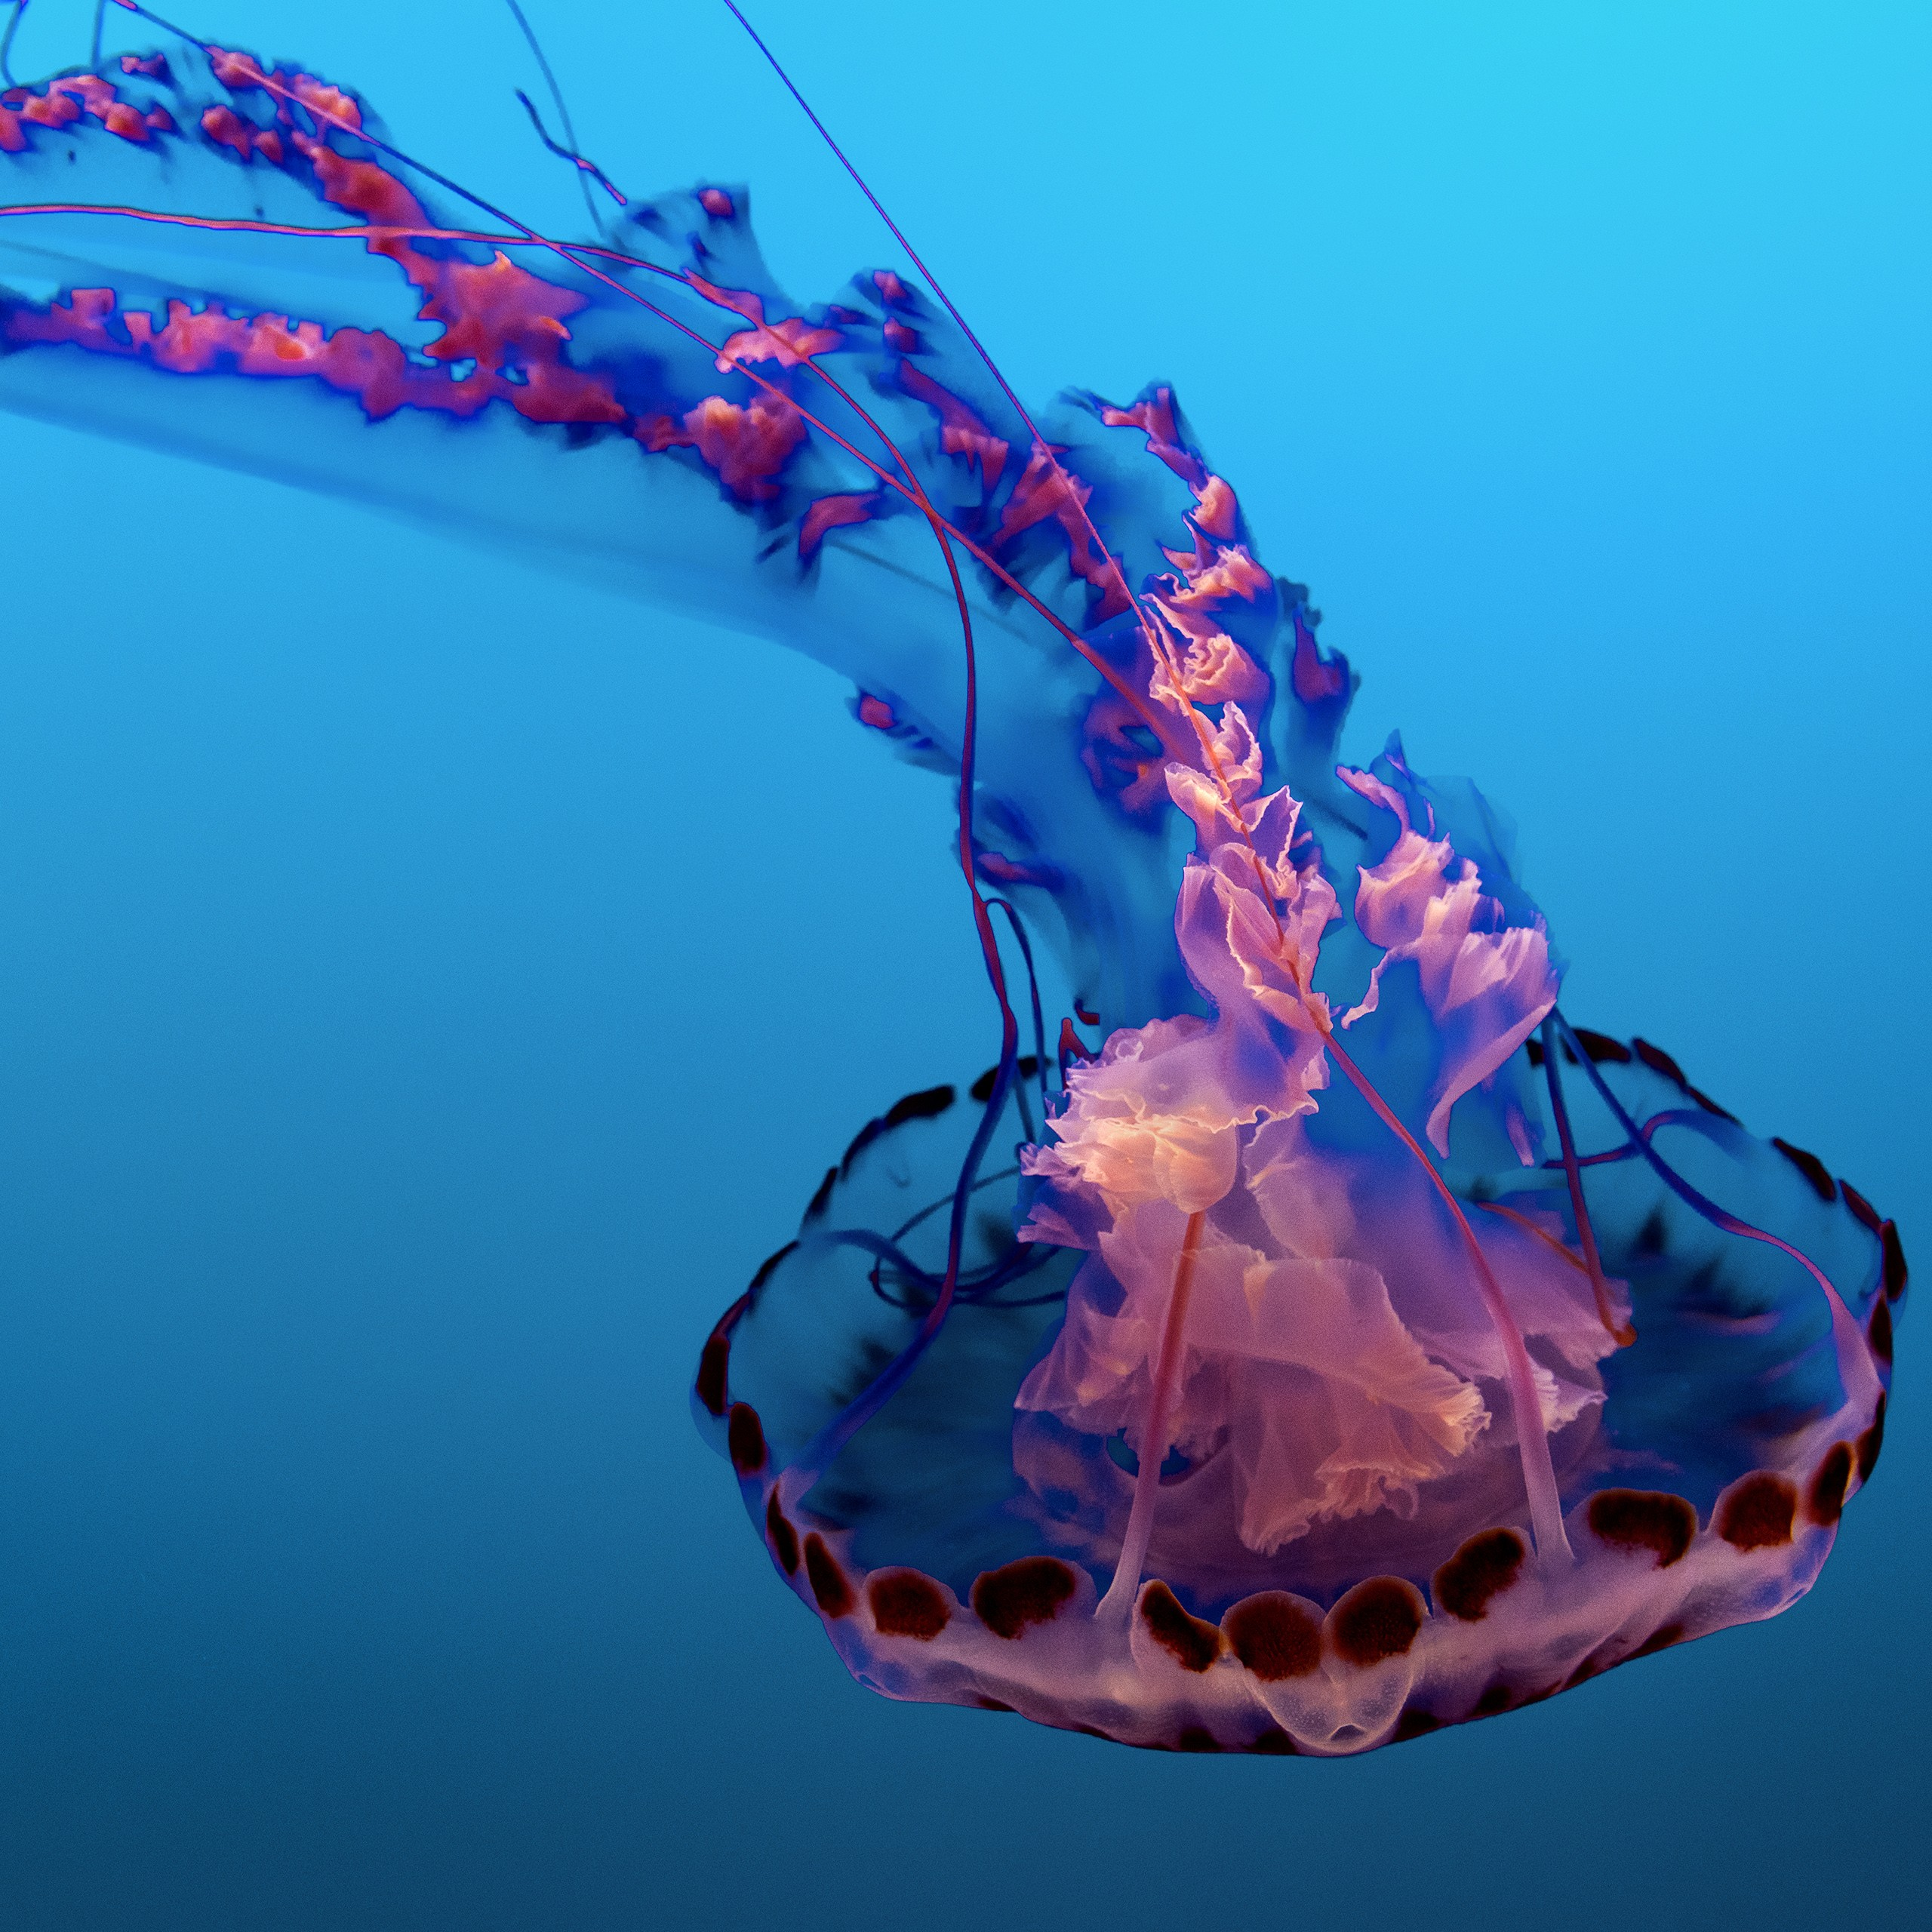jellyfish: (81, 0, 1881, 1782)
